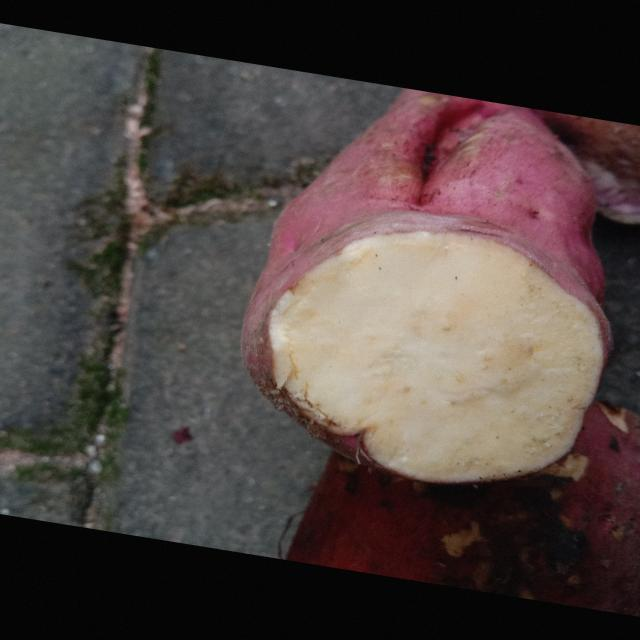Healthy Sweet Potato: (268, 231, 605, 482)
